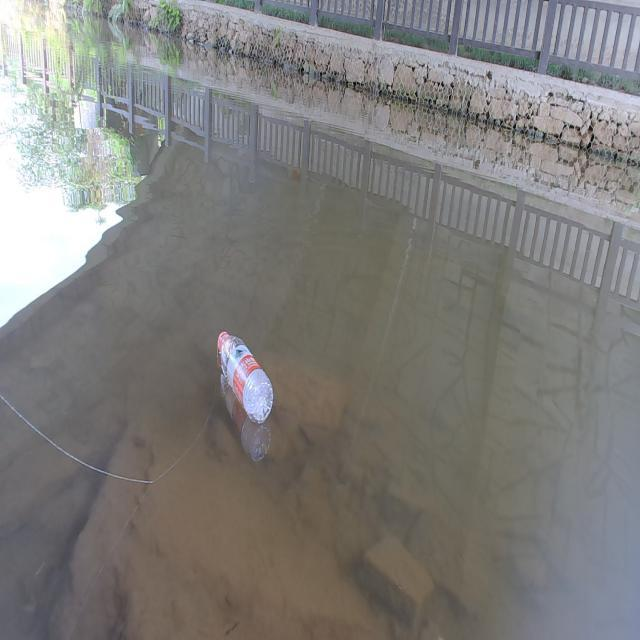bottle: (202, 303, 292, 441)
